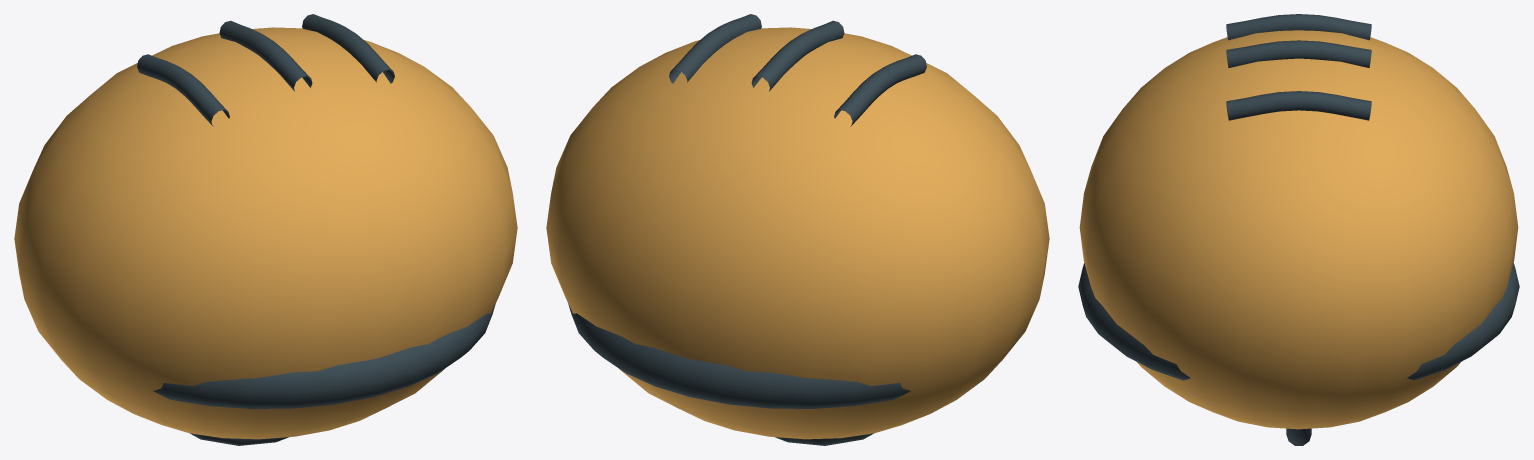
File: helmet.glb
3 views of the same model, side by side, from view 1: azimuth 30°, elevation 25°; view 2: azimuth 150°, elevation 25°; view 3: azimuth 270°, elevation 25° (orthographic). The views are drawn at different scales.
Visible parts, largest first — view 1: helmet_textured_mesh; view 2: helmet_textured_mesh; view 3: helmet_textured_mesh.
Part boxes in pixels (<box>): helmet_textured_mesh: <box>14,14,517,445</box>; helmet_textured_mesh: <box>546,14,1049,445</box>; helmet_textured_mesh: <box>1078,14,1519,445</box>.
Size of the model in its own units: 1.74 by 1.5 by 1.55.
Materials: 1 (1 with a texture image).
